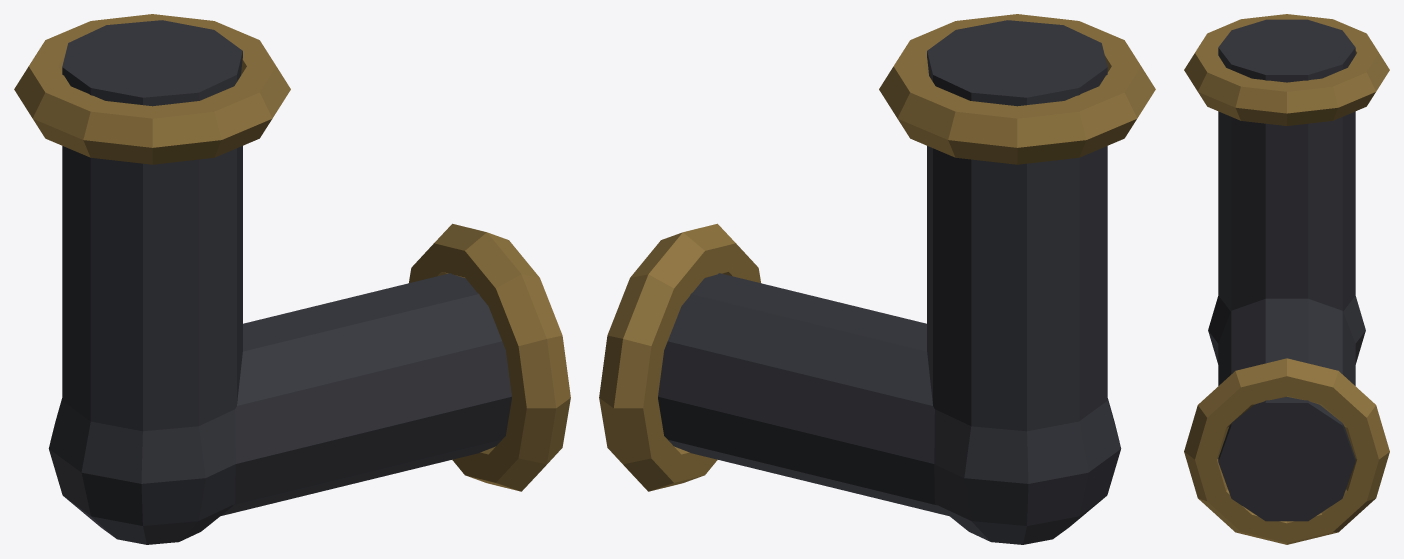
Rendered from tt_pipe_elbow.glb.
The picture shows the model from 3 angles, left to right: view 1: azimuth 30°, elevation 25°; view 2: azimuth 150°, elevation 25°; view 3: azimuth 270°, elevation 25°; orthographic projection. The views are drawn at different scales.
Visible parts, largest first — view 1: ArmZ, ArmX, Collar.001, Knee, Collar; view 2: ArmZ, ArmX, Collar.001, Knee, Collar; view 3: ArmZ, ArmX, Collar, Collar.001, Knee.
Part boxes in pixels (box(x1,y1,x2,y2)): ArmZ: box(62, 20, 242, 431); ArmX: box(221, 273, 511, 515); Collar.001: box(14, 14, 290, 164); Knee: box(48, 398, 235, 544); Collar: box(409, 223, 570, 491); ArmZ: box(927, 20, 1107, 431); ArmX: box(658, 273, 948, 515); Collar.001: box(879, 14, 1155, 164); Knee: box(934, 398, 1121, 544); Collar: box(599, 223, 760, 491); ArmZ: box(1218, 19, 1355, 311); ArmX: box(1218, 298, 1355, 521); Collar: box(1184, 358, 1389, 544); Collar.001: box(1184, 14, 1389, 125); Knee: box(1208, 296, 1365, 364).
Size of the model in its own units: 0.665 by 0.665 by 0.33.
